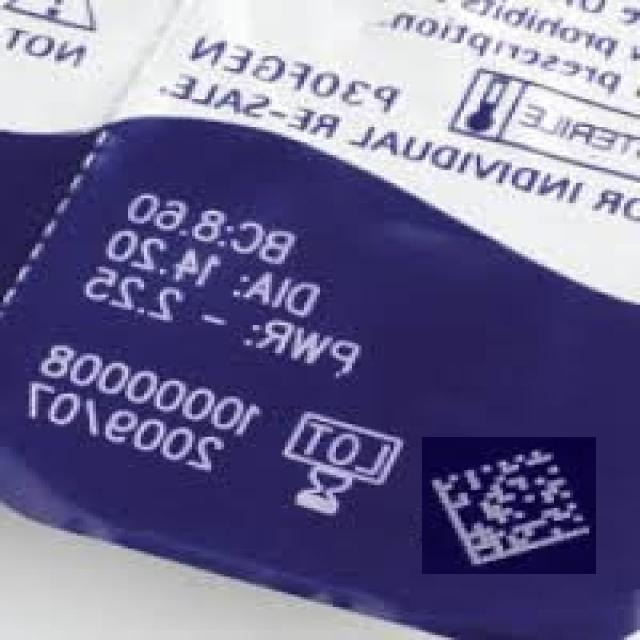Data-Matrix: (422, 437, 596, 574)
